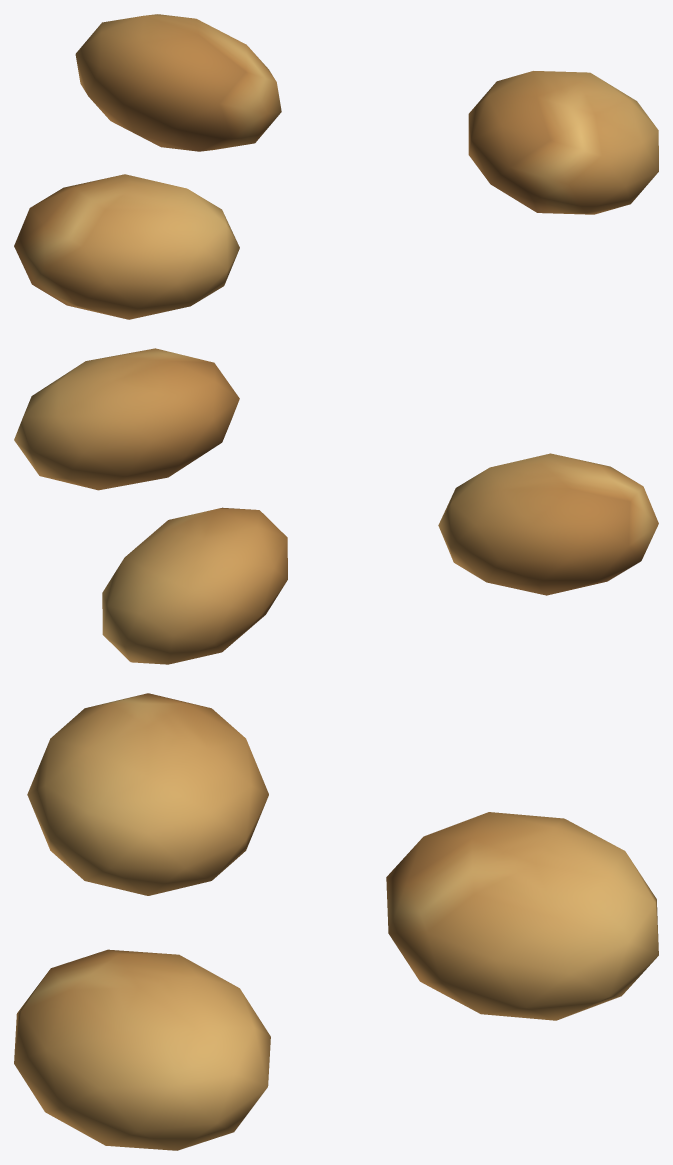
File: NP_Spinach_Seed.fbx
3 views of the same model, one above another, from view 1: azimuth 30°, elevation 25°; view 2: azimuth 150°, elevation 25°; view 3: azimuth 270°, elevation 25° (orthographic). The views are drawn at different scales.
Visible parts, largest first — view 1: NP_Spinach_Seed; view 2: NP_Spinach_Seed; view 3: NP_Spinach_Seed.
Boxes of the visible parts, left/top/right/bottom form: NP_Spinach_Seed: left=14, top=14, right=658, bottom=319; NP_Spinach_Seed: left=14, top=348, right=658, bottom=664; NP_Spinach_Seed: left=14, top=693, right=658, bottom=1150.
Bounding box in the file's own units: 15.04 × 2.96 × 11.2.
